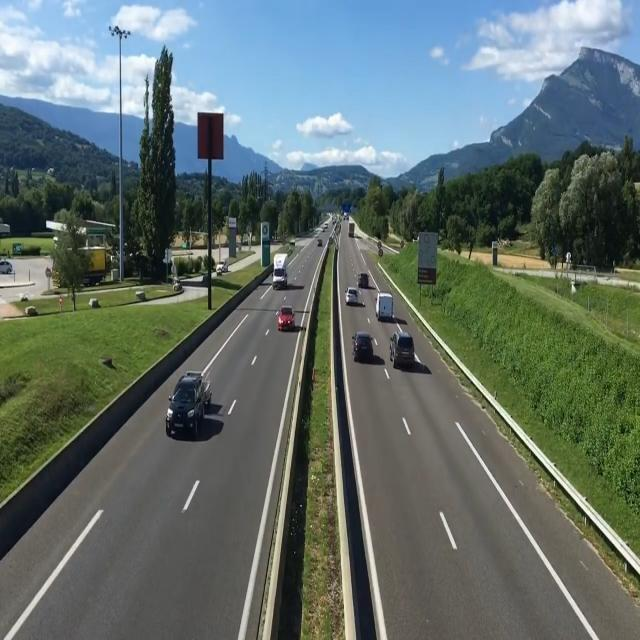Car: (165, 368, 213, 439), (389, 329, 417, 369), (351, 328, 375, 360), (276, 304, 300, 334), (346, 284, 362, 310), (359, 269, 371, 289)
Truck: (271, 250, 293, 291), (376, 289, 398, 322)
